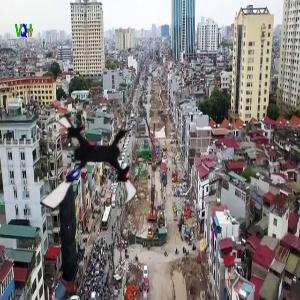drone: (28, 107, 148, 227)
